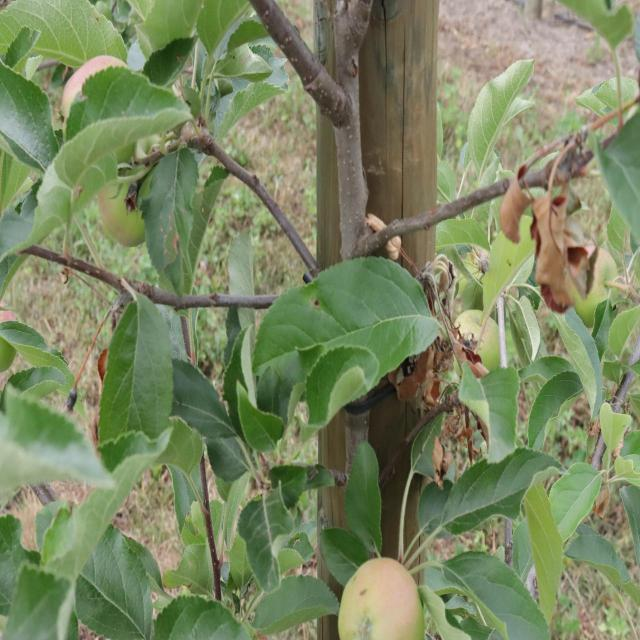-FireBlight-: (498, 160, 595, 322)
